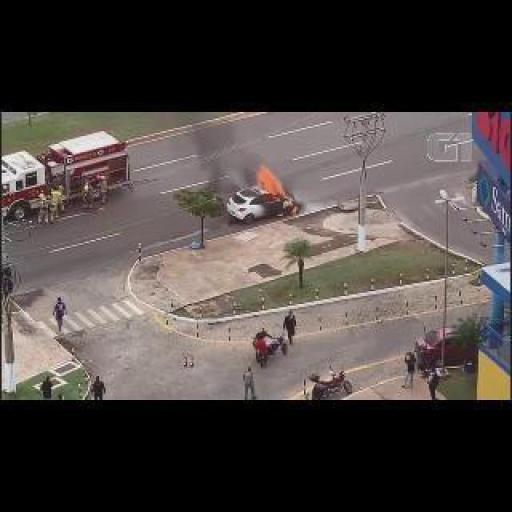smoke: (184, 118, 254, 196), (254, 165, 288, 197), (290, 206, 298, 214)
